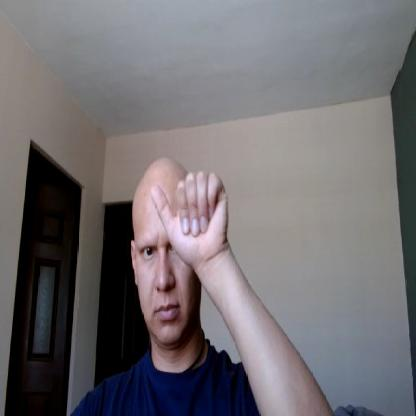A: (151, 168, 229, 268)
